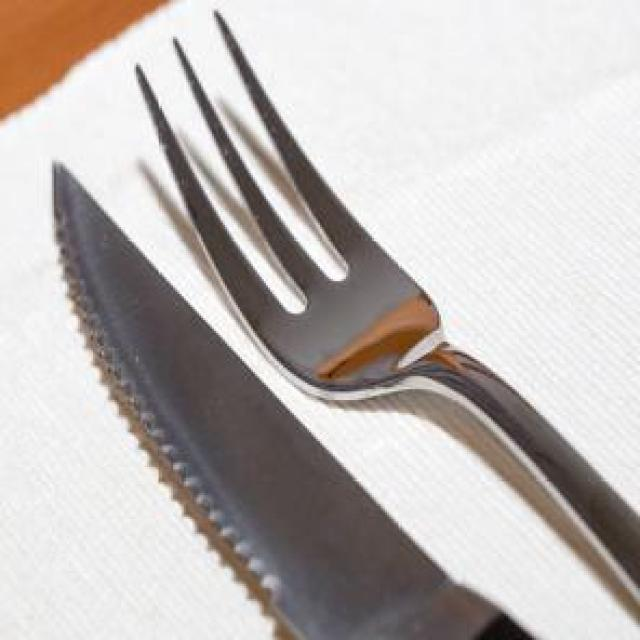knife: (43, 158, 554, 640)
